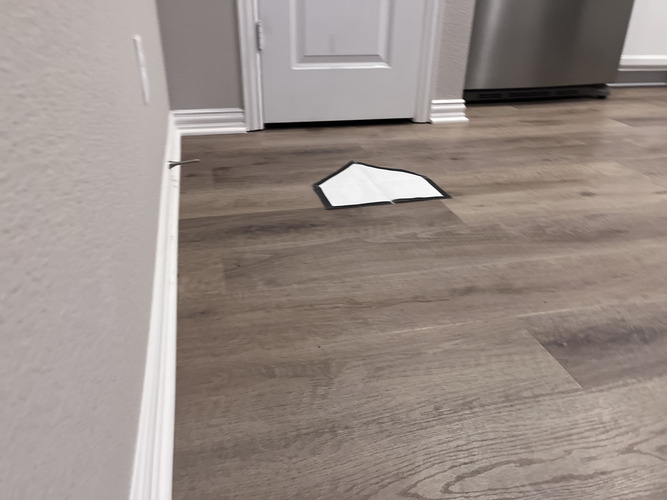homeplate: (313, 160, 452, 209)
